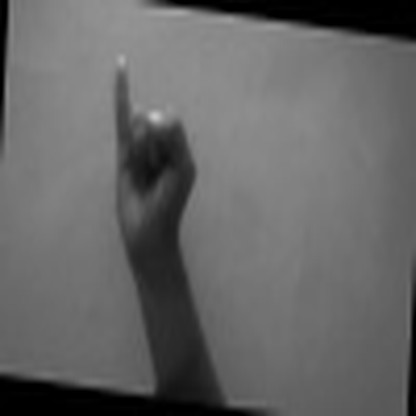i: (96, 38, 209, 263)
